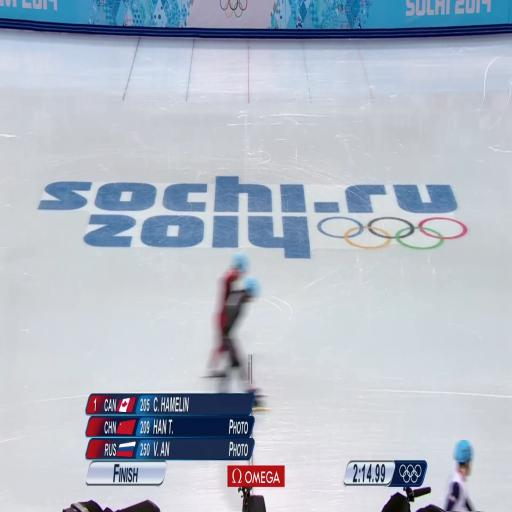Skater: (221, 278, 262, 407), (209, 254, 249, 377), (445, 440, 475, 511)
